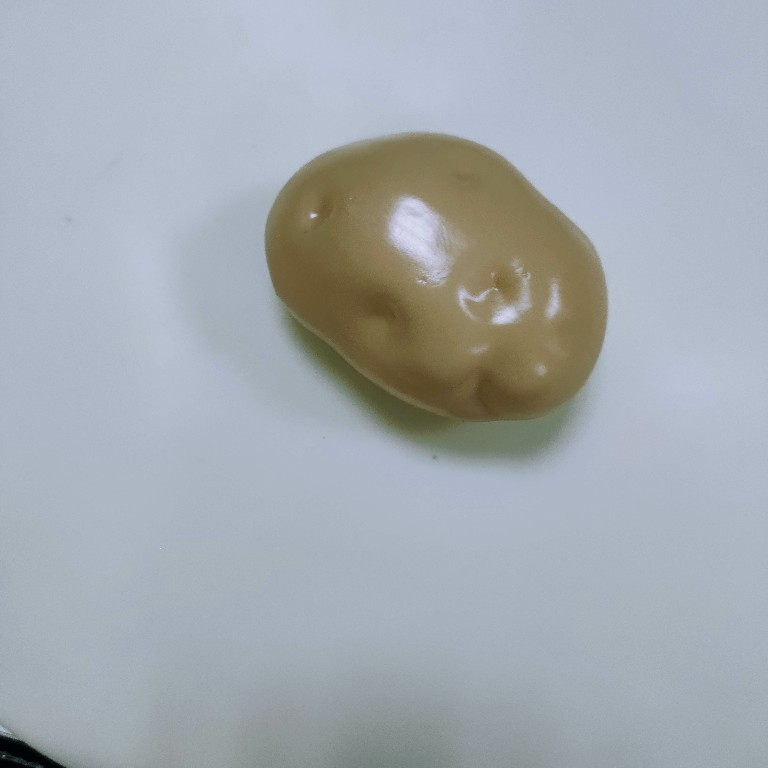fruit_potato: (256, 123, 620, 430)
